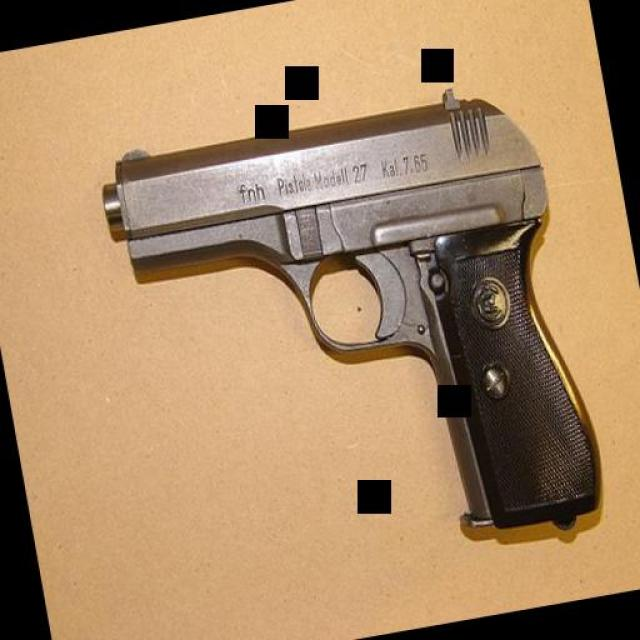gun: (88, 76, 608, 596)
